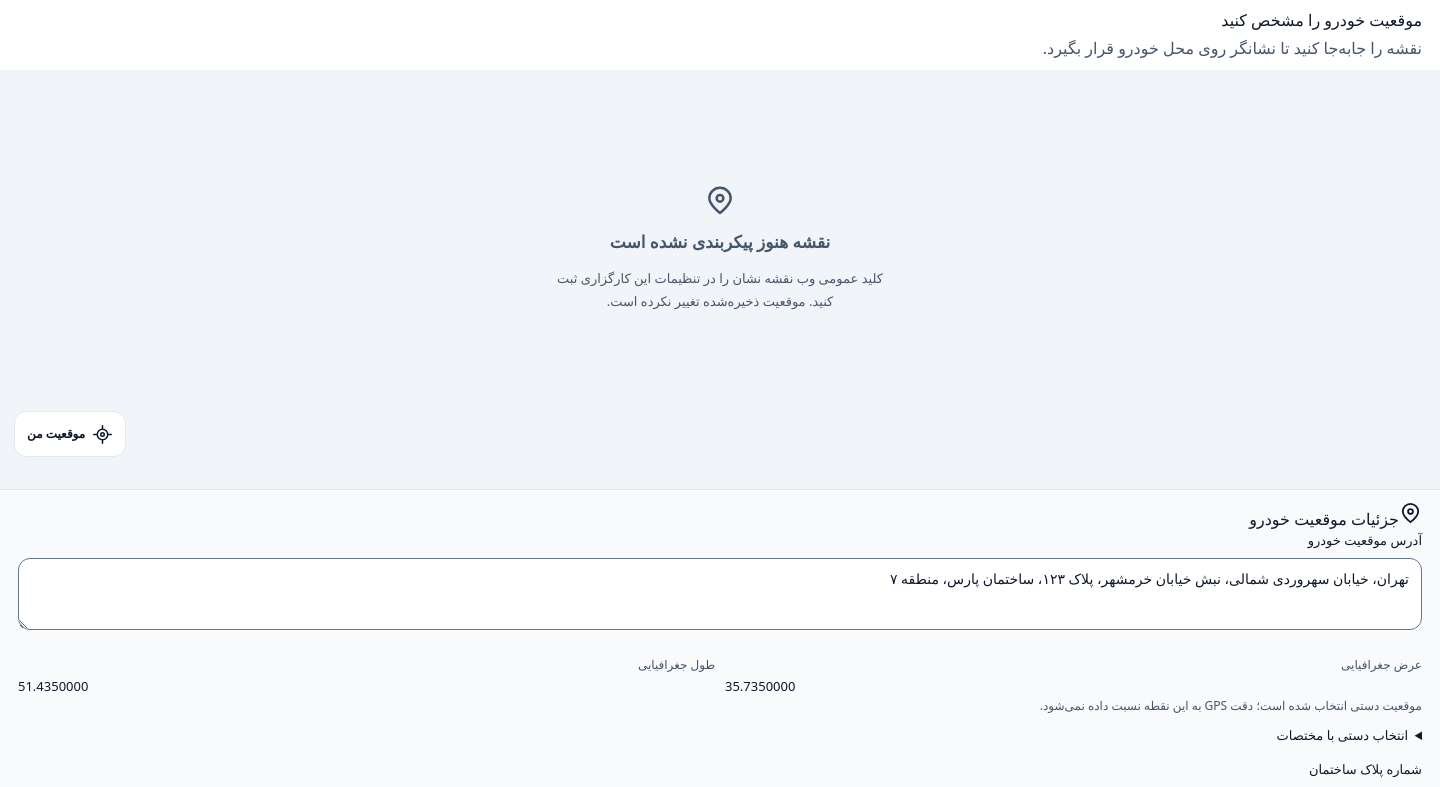
Scenario: location form and map › associates empty-address errors and blocks invalid confirmation
Clear the text box labelled "آدرس موقعیت خودرو": (720, 594) [18, 558, 1422, 630]
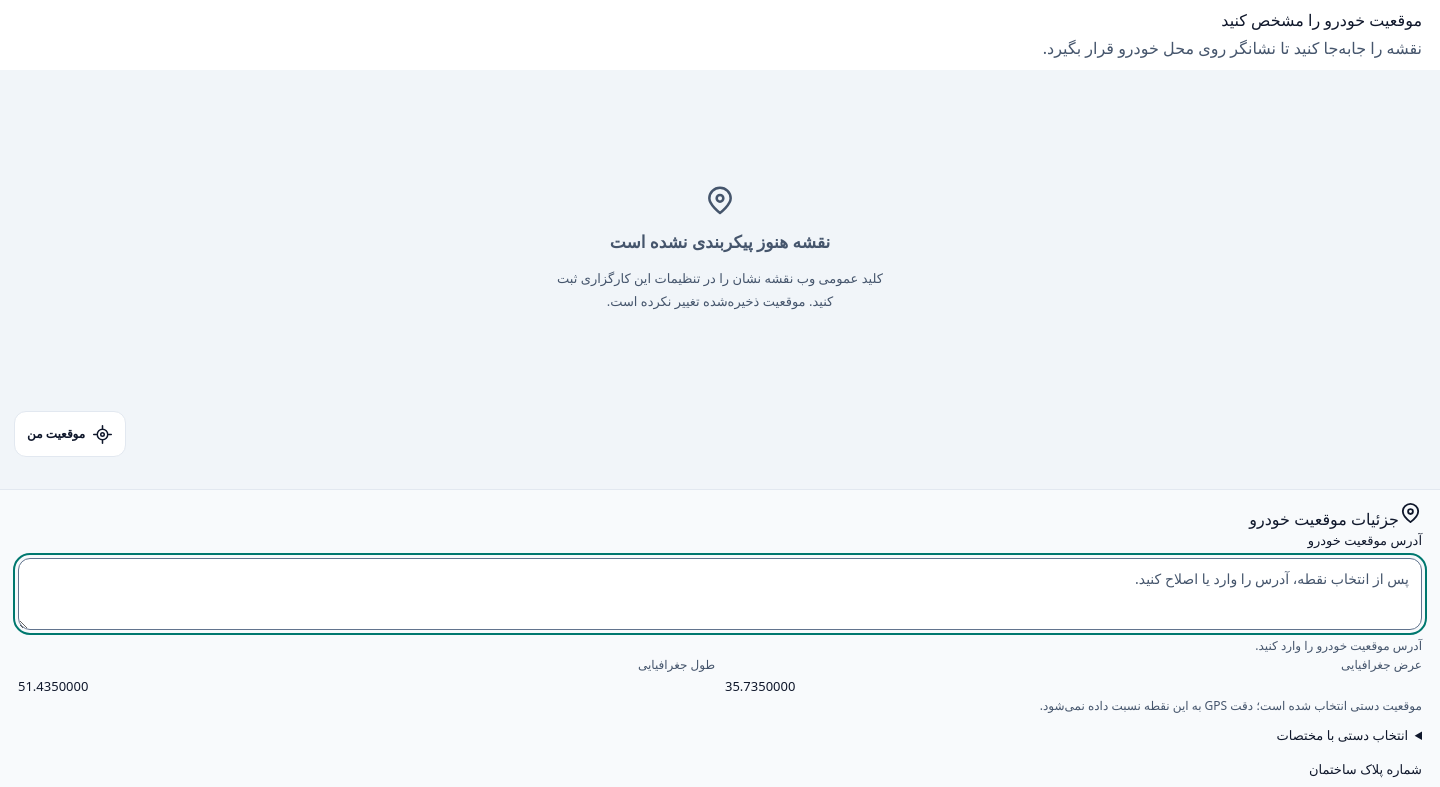
Leave the text box labelled "آدرس موقعیت خودرو", box [18, 558, 1422, 630]
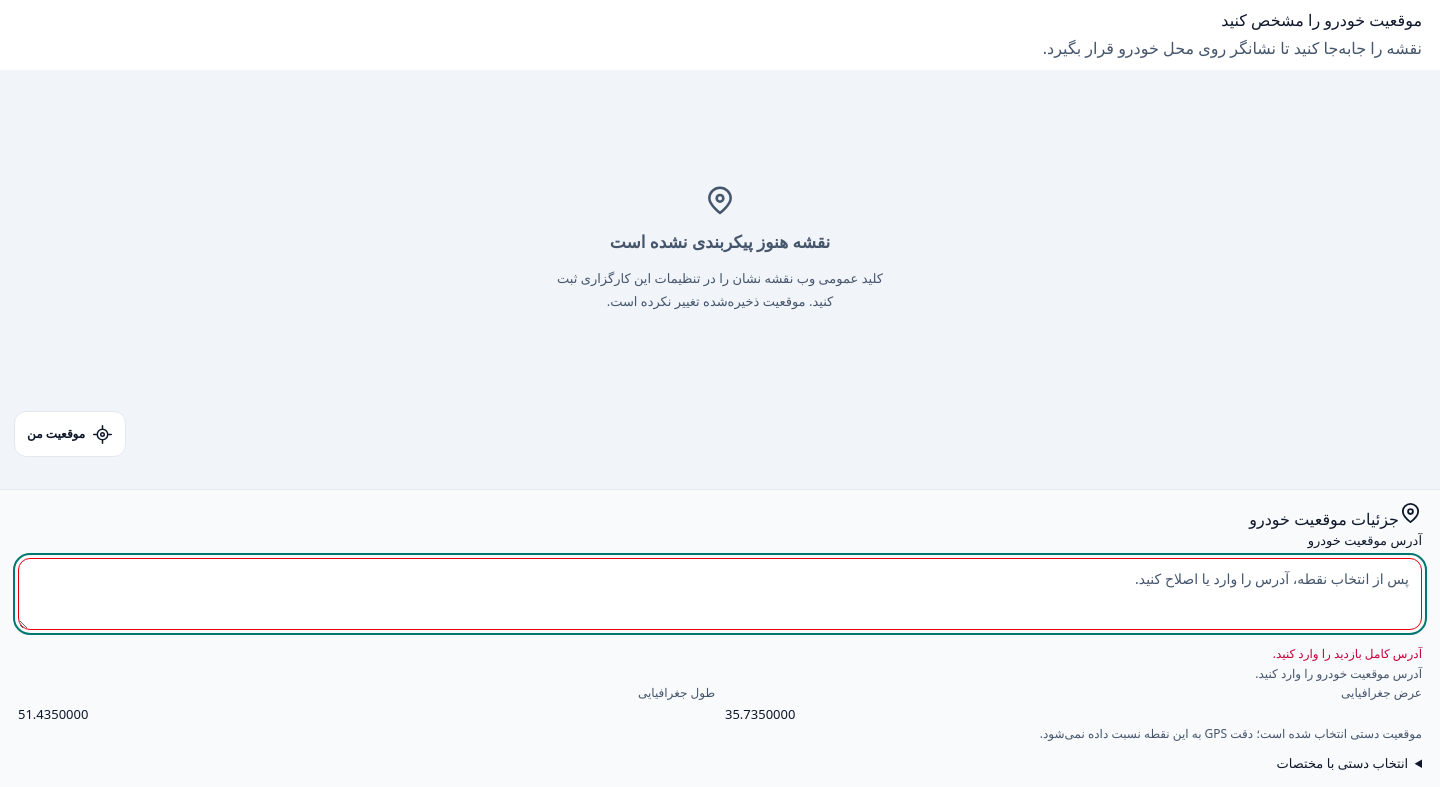
Expected: the text "آدرس کامل بازدید را وارد کنید." is shown, [1273, 645, 1422, 662]
